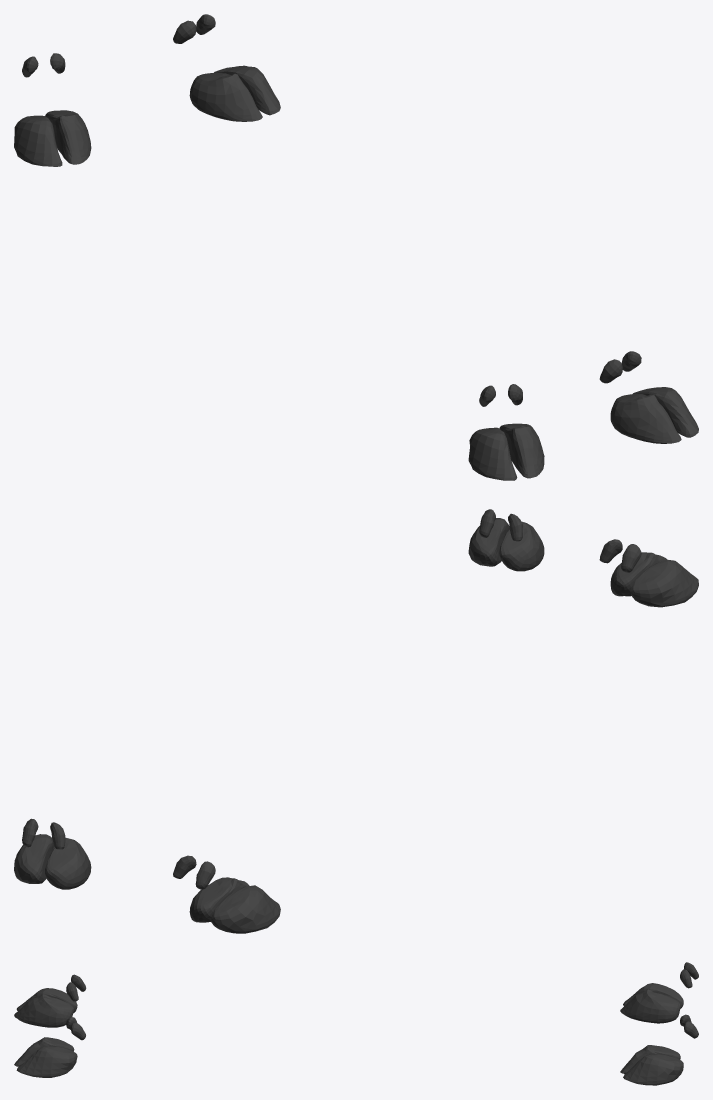
File: hooves_1.glb
3 views of the same model, one above another, from view 1: azimuth 30°, elevation 25°; view 2: azimuth 150°, elevation 25°; view 3: azimuth 270°, elevation 25° (orthographic). The views are drawn at different scales.
Visible parts, largest first — view 1: hooves_1; view 2: hooves_1; view 3: hooves_1.
Boxes of the visible parts, box(x1,y1,x2,y2) form: hooves_1: box(14, 14, 698, 480); hooves_1: box(14, 509, 698, 933); hooves_1: box(14, 962, 698, 1085).
Size of the model in its own units: 0.4497 by 0.1282 by 1.53.
Materials: 1 (1 with a texture image).
